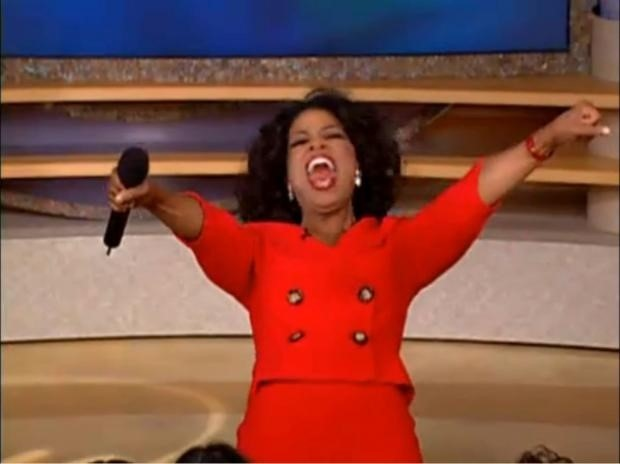face_no_mask: (258, 92, 379, 212)
